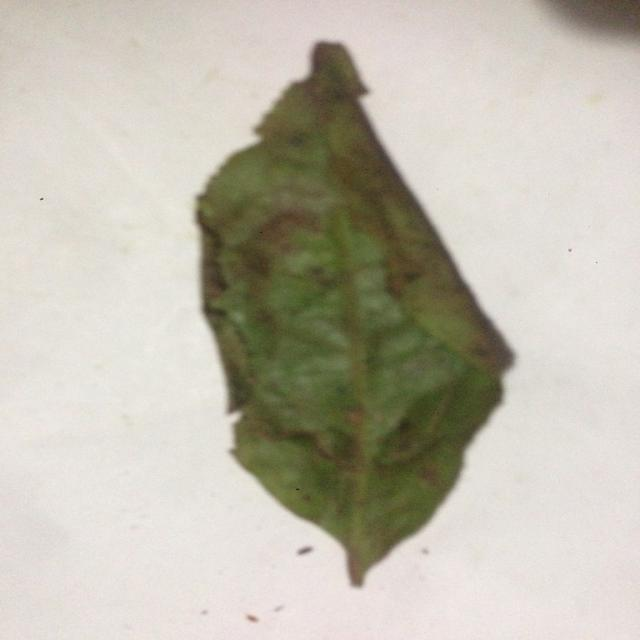Red Leaf Spot: (167, 37, 528, 596)
